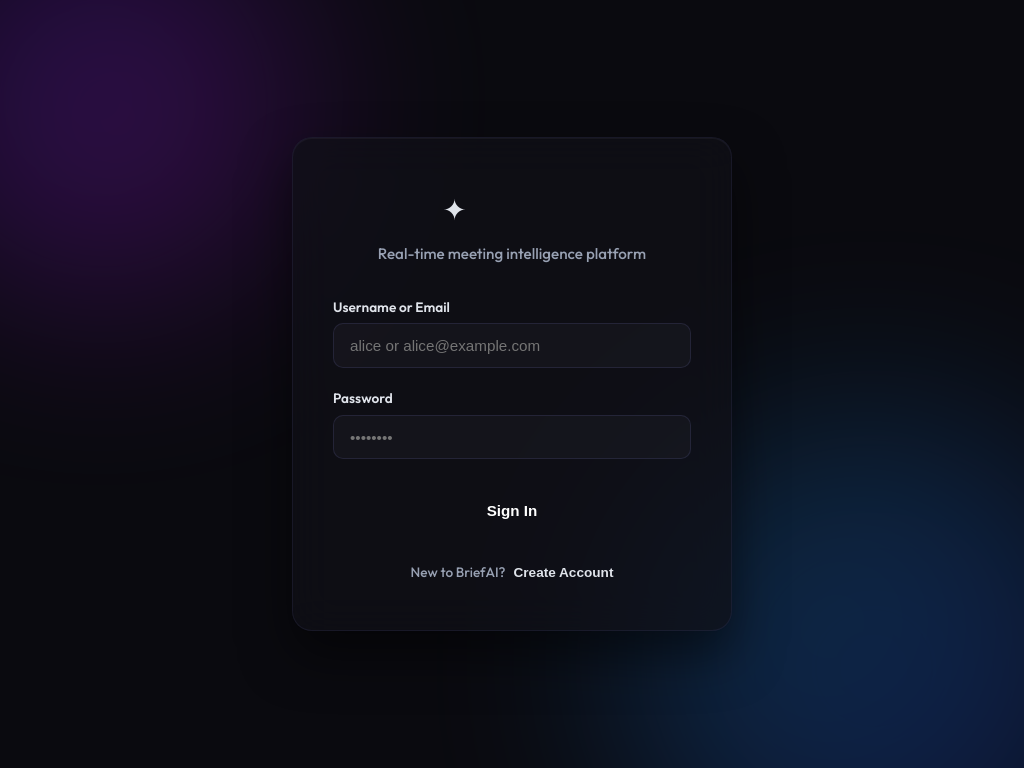
it: Frontend Auth Integration & Workspace Guard Tests › switches to registration form when clicking 'Create Account'
Click the button "Create Account" at (564,572), box [514,565,614,580]
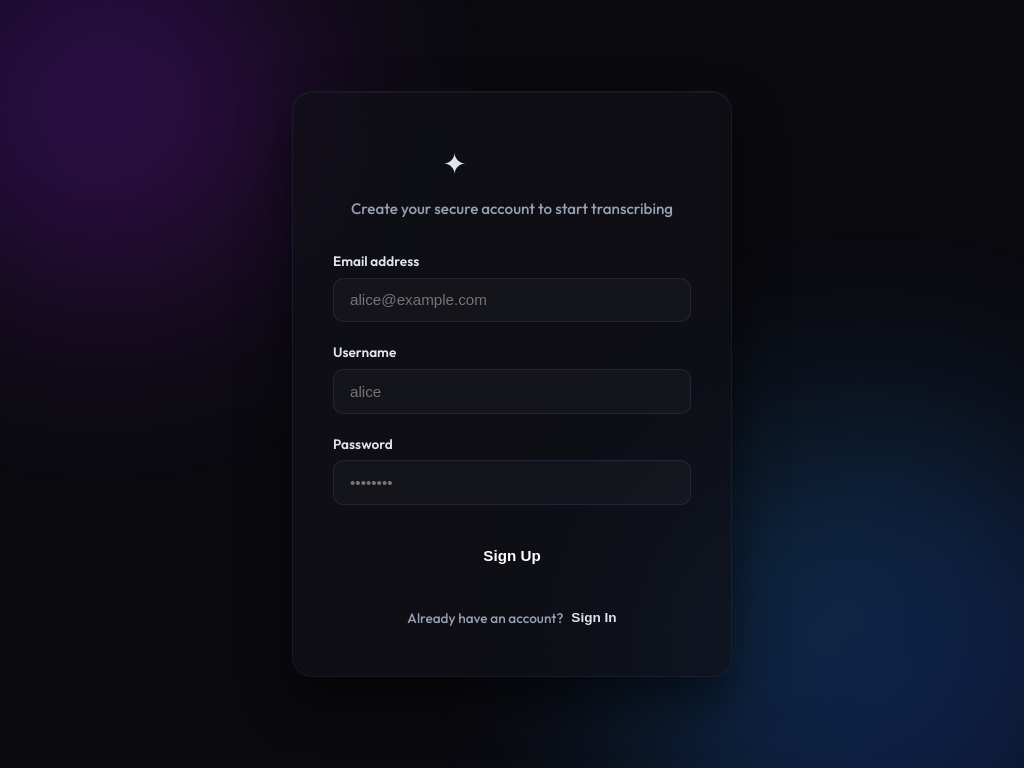
Now the field labelled "Email address" is shown, box [333,278,691,322]
Now the button "Sign Up" is shown, box [333,533,691,579]
